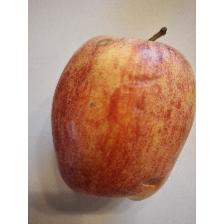Apfel: (50, 25, 196, 203)
